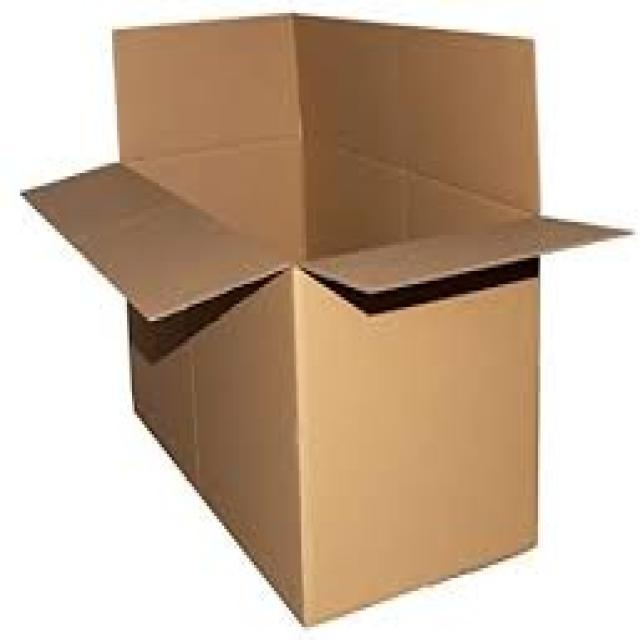Cardboard: (20, 9, 638, 619)
